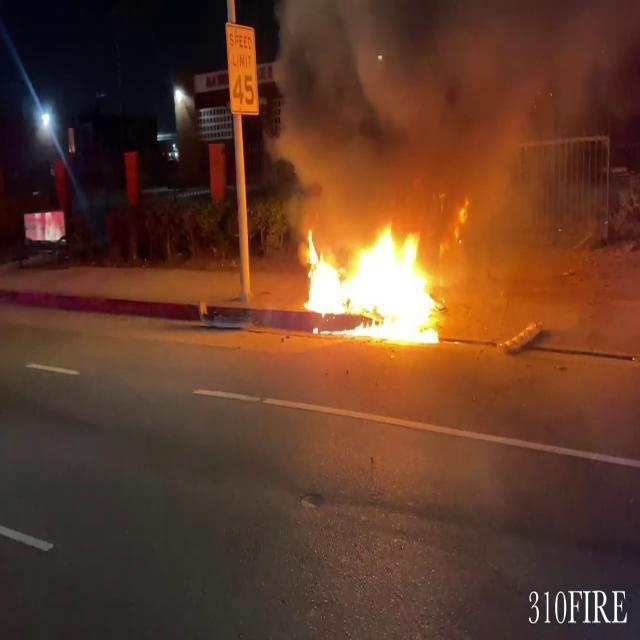Fire: (291, 217, 459, 347)
Smoke: (258, 0, 630, 208)
